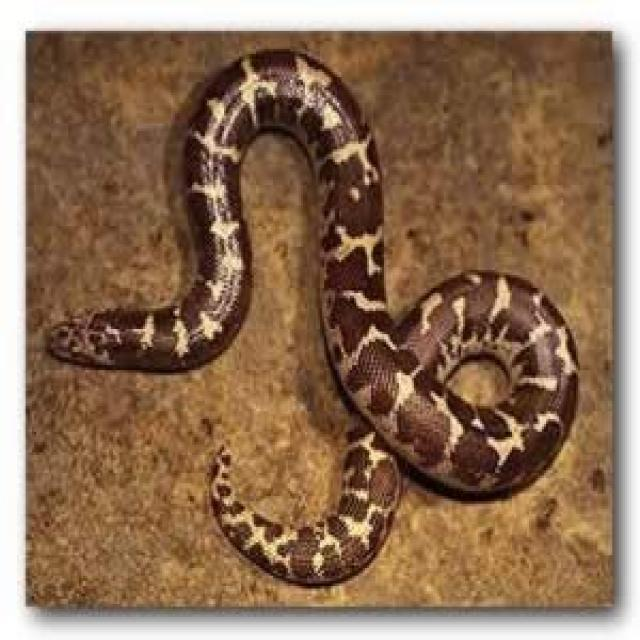Snake: (38, 41, 588, 592)
